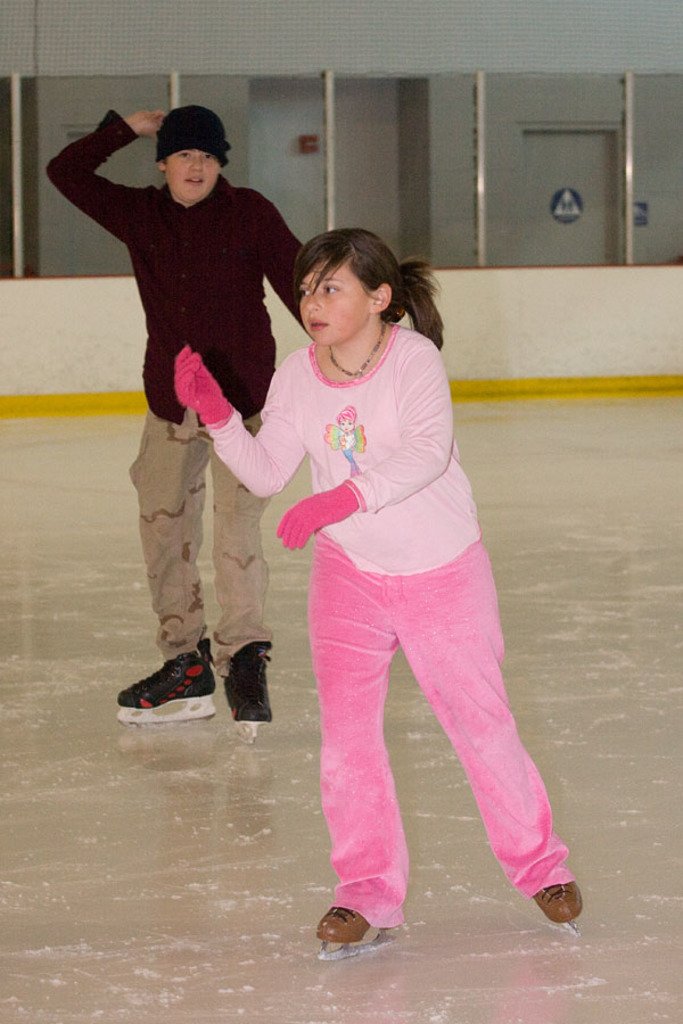Person: (173, 227, 582, 942), (45, 105, 315, 744)
